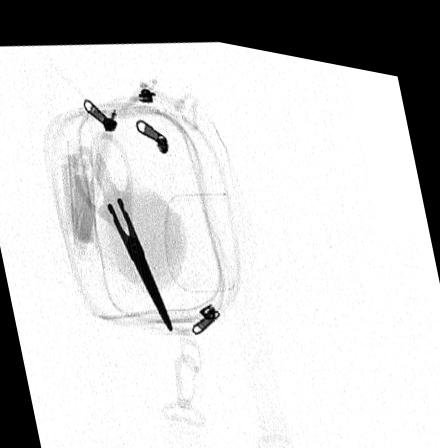Scissors: (69, 123, 176, 327)
